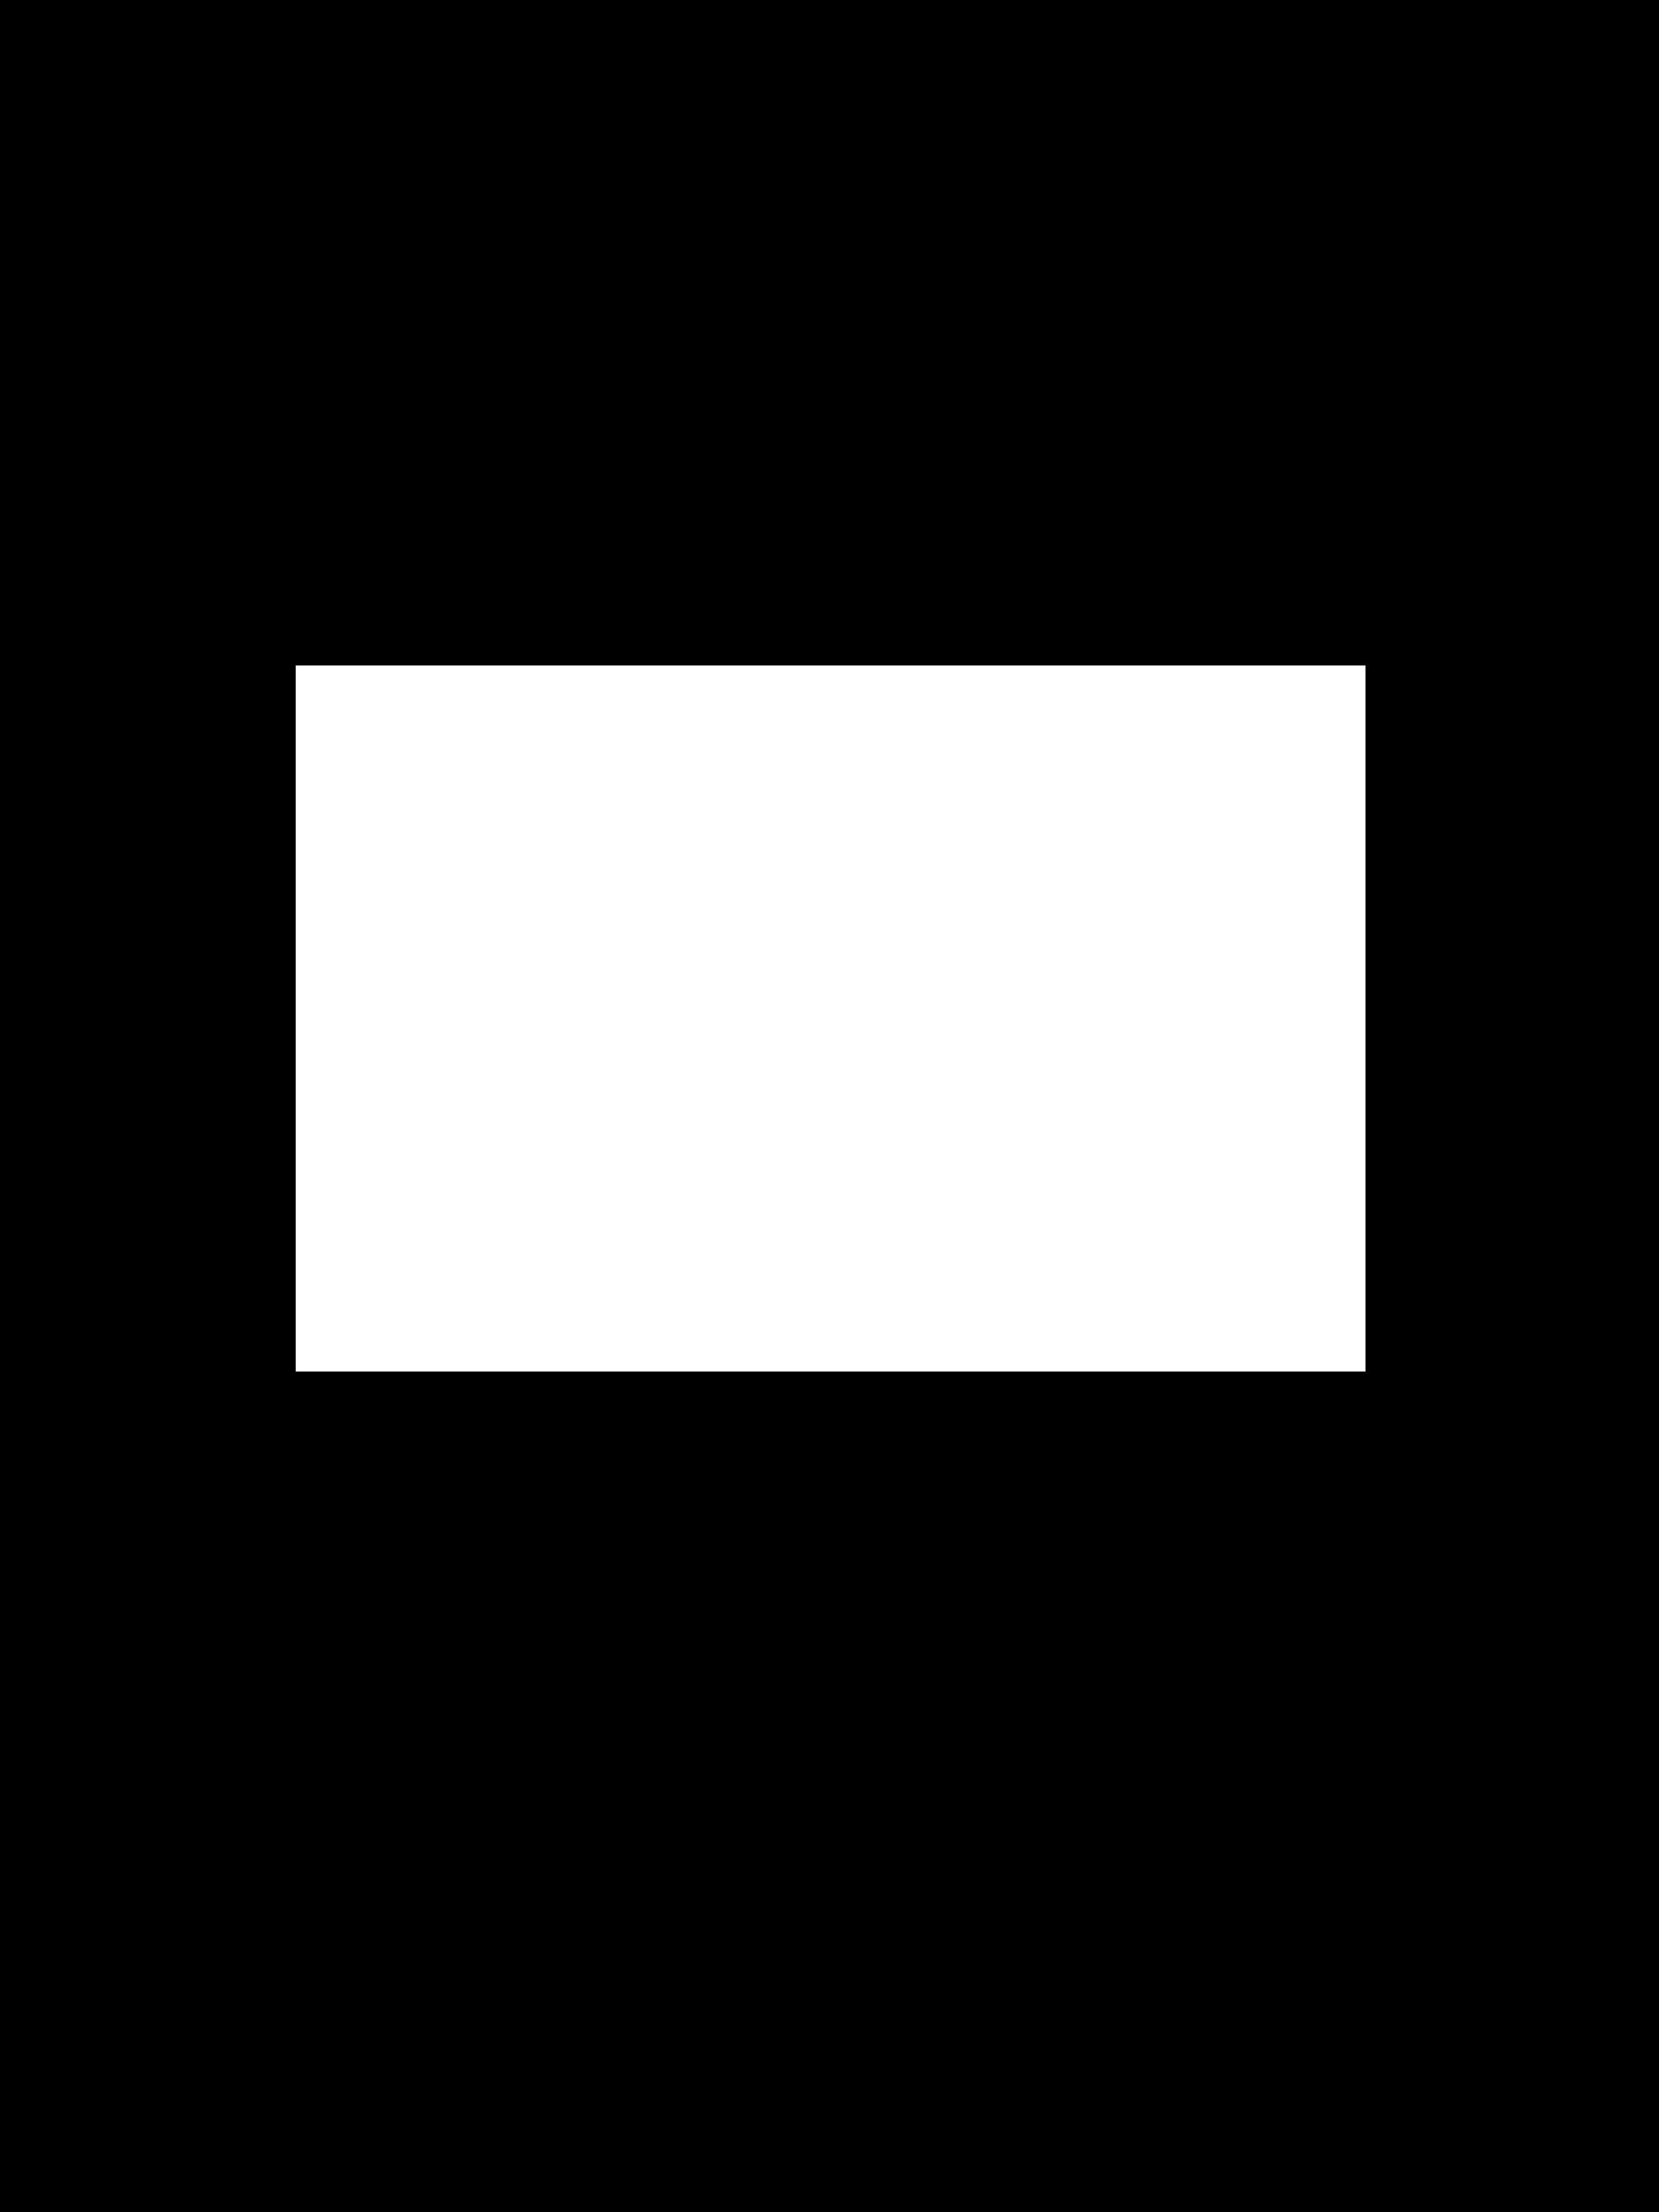table: (296, 665, 1366, 1371)
